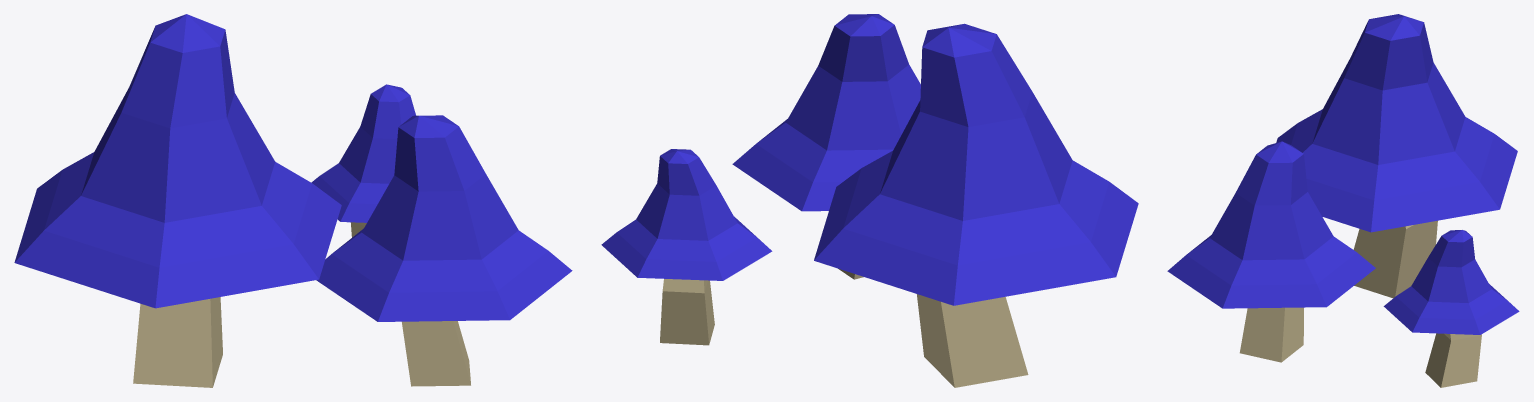
Rendered from Mushroom_01.fbx.
3 renders of one model, left to right at view 1: azimuth 30°, elevation 25°; view 2: azimuth 150°, elevation 25°; view 3: azimuth 270°, elevation 25°, orthographic. The views are drawn at different scales.
Parts seen in each view (by area): view 1: Cube; view 2: Cube; view 3: Cube.
Boxes of the visible parts, x1=… form: Cube: x1=14, y1=14, x2=572, y2=387; Cube: x1=601, y1=14, x2=1138, y2=387; Cube: x1=1167, y1=14, x2=1519, y2=387.
Bounding box in the file's own units: 185 × 129 × 152.
